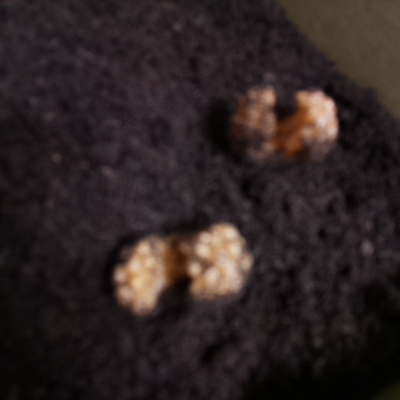eggs: (100, 218, 262, 323), (217, 79, 342, 173)
